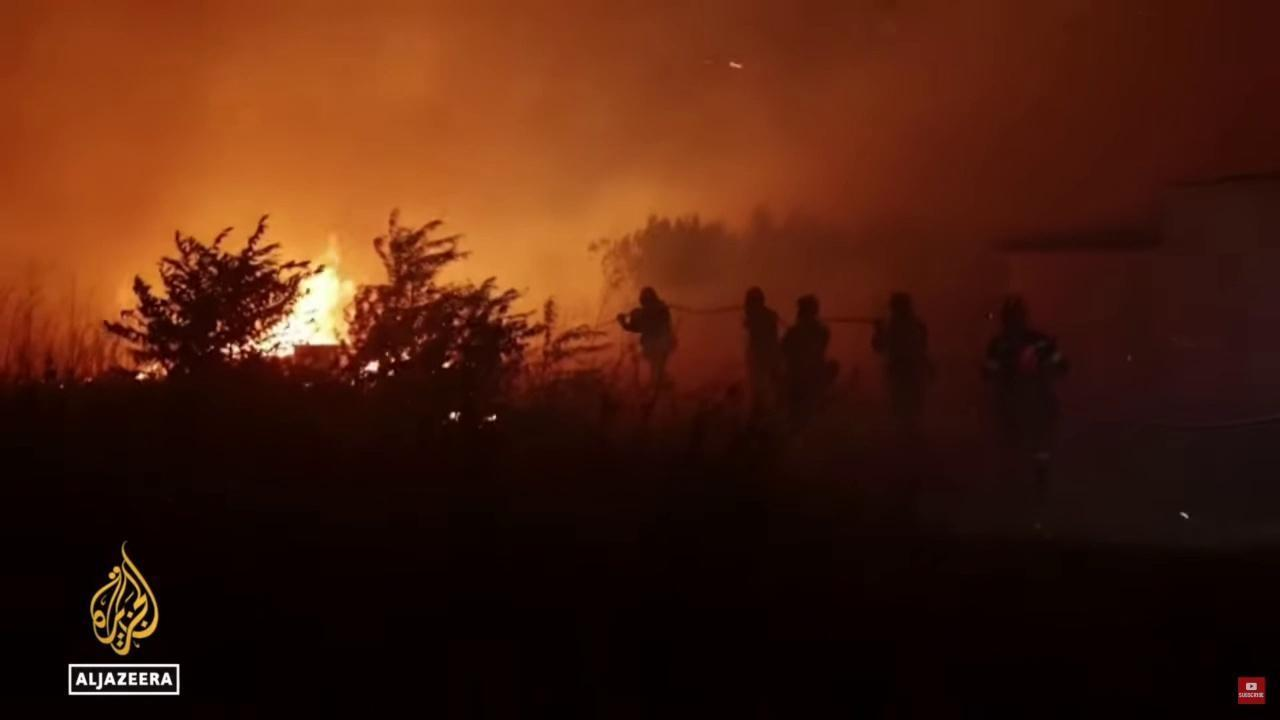fire: (213, 223, 366, 361)
smoke: (0, 0, 1280, 542)
